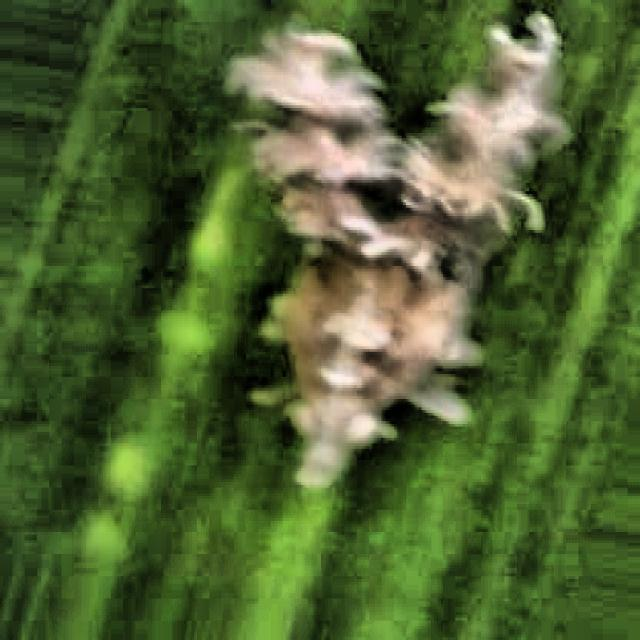Pyrilla-perpusilla: (209, 0, 603, 554)
